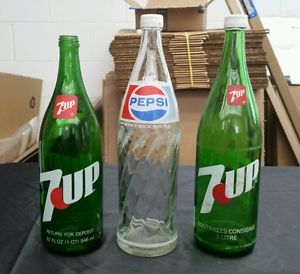Rec_Glass: (27, 31, 108, 255), (113, 9, 182, 258), (192, 6, 258, 260)
